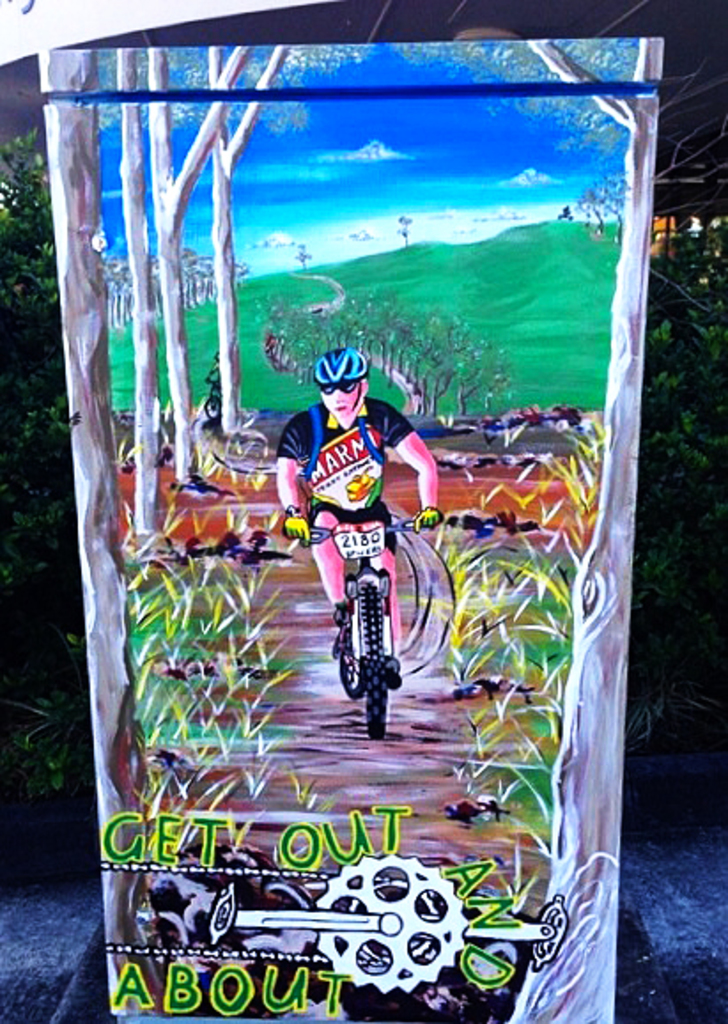Bicycle: (288, 513, 446, 738)
